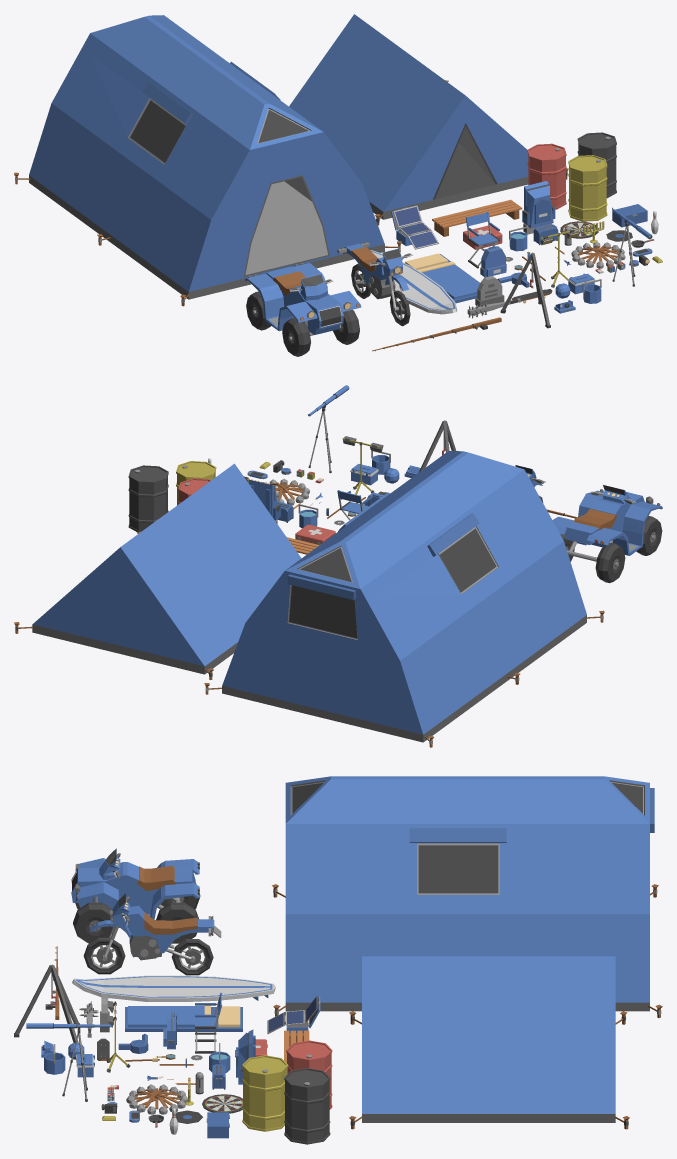
The picture shows the model from 3 angles, top to bottom: view 1: azimuth 30°, elevation 25°; view 2: azimuth 150°, elevation 25°; view 3: azimuth 270°, elevation 25°; orthographic projection. The views are drawn at different scales.
Parts seen in each view (by area): view 1: huitugou_2097_52, huitugou_2097_05, huitugou_2097_21, huitugou_2097_26, huitugou_2097_25, huitugou_2097_04, huitugou_2097_11, huitugou_2097_59, huitugou_2097_22, huitugou_2097_07, huitugou_2097_27, huitugou_2097_28 (+13 smaller); view 2: huitugou_2097_52, huitugou_2097_05, huitugou_2097_21, huitugou_2097_27, huitugou_2097_17, huitugou_2097_26, huitugou_2097_22, huitugou_2097_30, huitugou_2097_19, huitugou_2097_42; view 3: huitugou_2097_52, huitugou_2097_05, huitugou_2097_21, huitugou_2097_11, huitugou_2097_27, huitugou_2097_26, huitugou_2097_59, huitugou_2097_04, huitugou_2097_25, huitugou_2097_30, huitugou_2097_20, huitugou_2097_50 (+9 smaller).
Part boxes in pixels (x1,y1,x2,y2): huitugou_2097_52: (14, 15, 401, 306); huitugou_2097_05: (289, 14, 568, 225); huitugou_2097_21: (245, 262, 361, 340); huitugou_2097_26: (568, 155, 607, 221); huitugou_2097_25: (527, 143, 566, 209); huitugou_2097_04: (405, 253, 479, 303); huitugou_2097_11: (370, 250, 457, 314); huitugou_2097_59: (337, 242, 395, 299); huitugou_2097_22: (522, 181, 555, 234); huitugou_2097_07: (391, 205, 438, 249); huitugou_2097_27: (577, 132, 616, 198); huitugou_2097_28: (432, 199, 522, 236); huitugou_2097_52: (204, 451, 604, 747); huitugou_2097_05: (14, 463, 301, 679); huitugou_2097_21: (552, 489, 662, 566); huitugou_2097_27: (128, 465, 168, 532); huitugou_2097_17: (595, 542, 625, 583); huitugou_2097_26: (176, 461, 216, 505); huitugou_2097_22: (248, 479, 280, 523); huitugou_2097_30: (263, 478, 309, 505); huitugou_2097_19: (636, 516, 662, 555); huitugou_2097_42: (295, 524, 335, 544); huitugou_2097_52: (272, 776, 662, 1017); huitugou_2097_05: (349, 956, 629, 1129); huitugou_2097_21: (71, 858, 199, 927); huitugou_2097_11: (72, 975, 275, 1001); huitugou_2097_27: (284, 1068, 330, 1144); huitugou_2097_26: (242, 1055, 288, 1131); huitugou_2097_59: (127, 905, 221, 960); huitugou_2097_04: (125, 1005, 242, 1031); huitugou_2097_25: (286, 1040, 332, 1109); huitugou_2097_30: (126, 1084, 187, 1114); huitugou_2097_20: (73, 902, 112, 943); huitugou_2097_50: (14, 964, 79, 1042).
Bounding box in the file's own units: 540 × 187 × 594.
